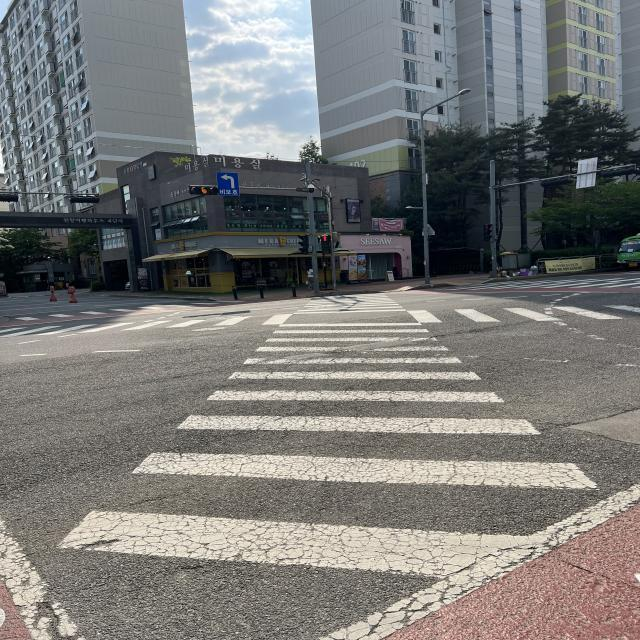red-light: (317, 226, 333, 250)
